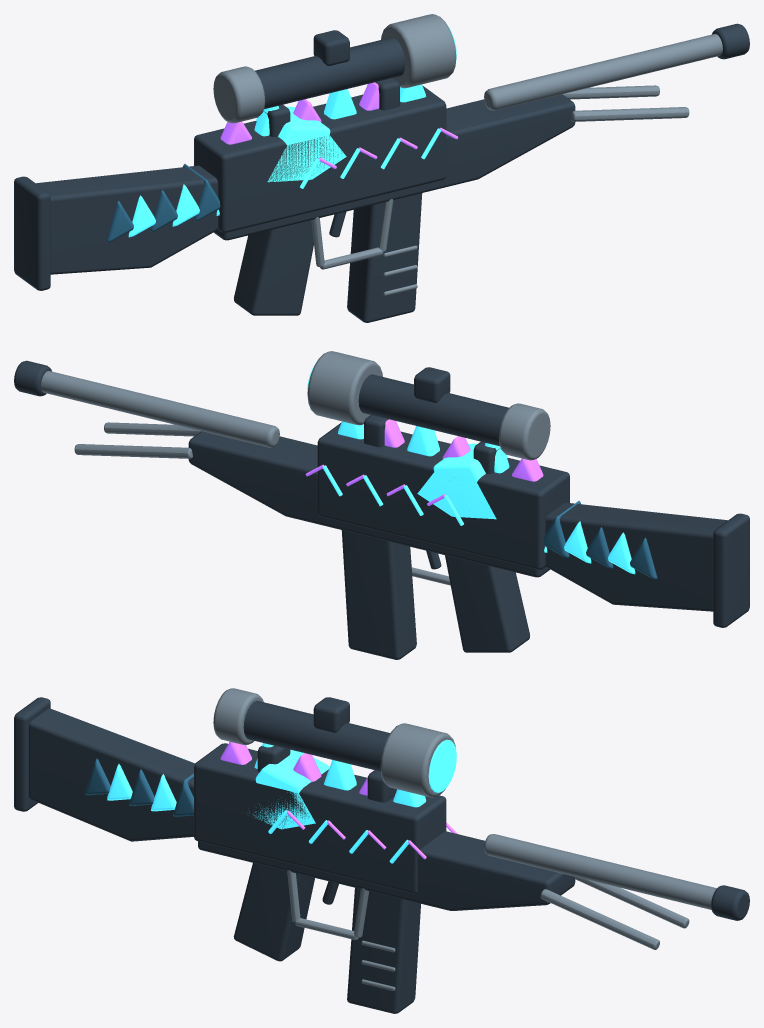
Rendered from awp.glb.
3 renders of one model, top to bottom at view 1: azimuth 30°, elevation 25°; view 2: azimuth 150°, elevation 25°; view 3: azimuth 330°, elevation 25°, orthographic.
Parts seen in each view (by area): view 1: Receiver.004, Shoulder stock.005, Precision chassis.001, Magazine.005, Pistol grip.006, Barrel.006, Scope tube.001, Butt pad.005, Objective.001, Dragon head, Eyepiece.001, Folded bipod.002 (+13 smaller); view 2: Receiver.004, Shoulder stock.005, Precision chassis.001, Magazine.005, Pistol grip.006, Barrel.006, Scope tube.001, Butt pad.005, Objective.001, Dragon head, Eyepiece.001, Folded bipod.003 (+12 smaller); view 3: Receiver.004, Shoulder stock.005, Precision chassis.001, Magazine.005, Barrel.006, Scope tube.001, Pistol grip.006, Objective.001, Dragon head, Butt pad.005, Eyepiece.001, Folded bipod.002 (+13 smaller).
Boxes of the visible parts, box(x1,y1,x2,y2) form: Receiver.004: box(194, 85, 446, 232); Shoulder stock.005: box(36, 165, 218, 274); Precision chassis.001: box(214, 94, 575, 240); Magazine.005: box(347, 193, 422, 322); Pistol grip.006: box(234, 220, 313, 315); Barrel.006: box(484, 34, 722, 110); Scope tube.001: box(255, 37, 405, 109); Butt pad.005: box(14, 176, 50, 290); Objective.001: box(381, 14, 456, 88); Dragon head: box(255, 106, 346, 182); Eyepiece.001: box(213, 66, 265, 123); Folded bipod.002: box(571, 107, 689, 121); Receiver.004: box(317, 422, 569, 569); Shoulder stock.005: box(545, 502, 727, 611); Precision chassis.001: box(188, 431, 549, 577); Magazine.005: box(341, 530, 416, 659); Pistol grip.006: box(445, 555, 529, 652); Barrel.006: box(41, 371, 279, 447); Scope tube.001: box(358, 374, 508, 446); Butt pad.005: box(713, 513, 749, 627); Objective.001: box(307, 351, 382, 425); Dragon head: box(417, 443, 508, 519); Eyepiece.001: box(498, 403, 550, 460); Folded bipod.003: box(74, 444, 192, 458); Receiver.004: box(194, 743, 446, 893); Shoulder stock.005: box(29, 708, 195, 841); Precision chassis.001: box(198, 831, 575, 910); Magazine.005: box(347, 887, 420, 1013); Barrel.006: box(484, 834, 716, 909); Scope tube.001: box(243, 701, 390, 771); Pistol grip.006: box(233, 863, 314, 961); Objective.001: box(380, 723, 455, 797); Dragon head: box(249, 749, 329, 829); Butt pad.005: box(14, 697, 50, 811); Eyepiece.001: box(213, 688, 263, 745); Folded bipod.002: box(540, 889, 659, 949).
Size of the model in its own units: 6.21 by 2.38 by 0.5223.
